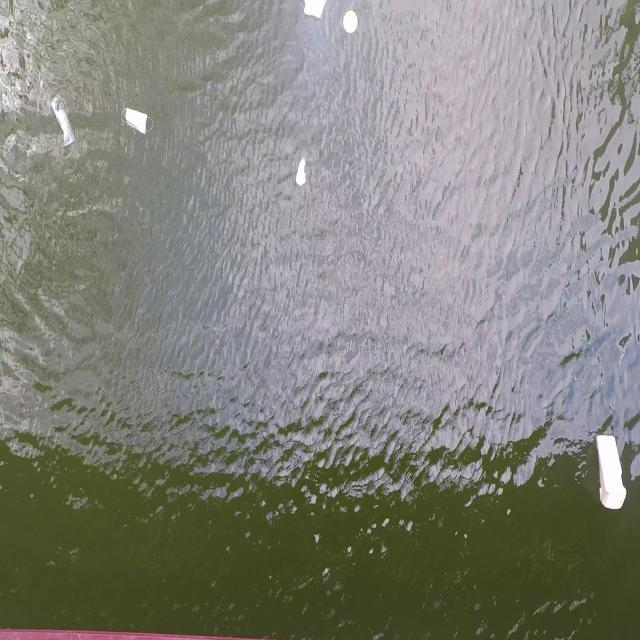Autre plastique: (592, 424, 631, 518)
Non plastique: (117, 104, 158, 137)
Sac plastique: (48, 93, 79, 153)
